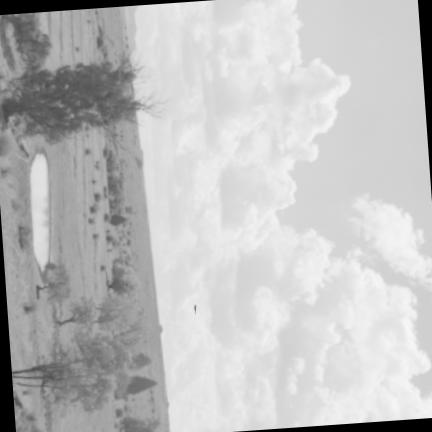Shahed: (192, 304, 195, 315)
